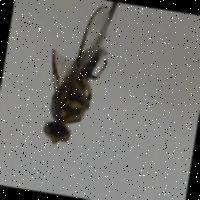Oriental-fruit-fly: (26, 0, 129, 156)
